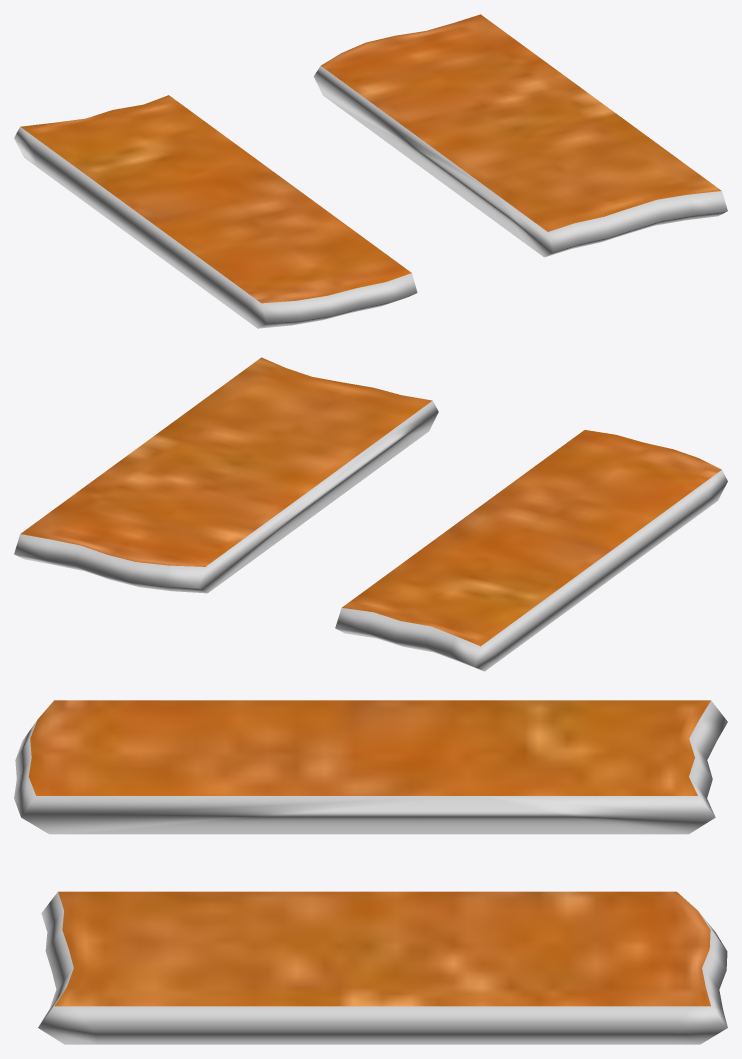
File: TangerinePeelVoid_Model.fbx
3 renders of one model, top to bottom at view 1: azimuth 30°, elevation 25°; view 2: azimuth 150°, elevation 25°; view 3: azimuth 270°, elevation 25°, orthographic. The views are drawn at different scales.
Parts seen in each view (by area): view 1: Cube; view 2: Cube; view 3: Cube.
Boxes of the visible parts, x1=… form: Cube: x1=14, y1=14, x2=727, y2=328; Cube: x1=14, y1=357, x2=727, y2=671; Cube: x1=14, y1=700, x2=727, y2=1044.
Bounding box in the file's own units: 1119 × 65.32 × 1104.
2 materials, 1 textured.
